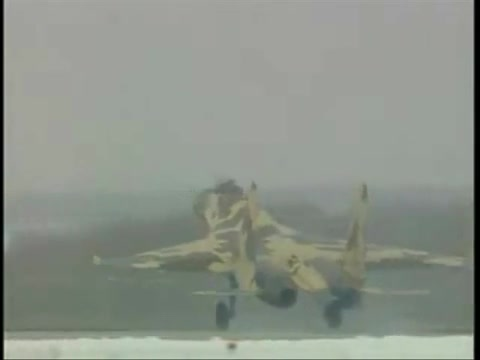aeroplane: (94, 181, 463, 331)
